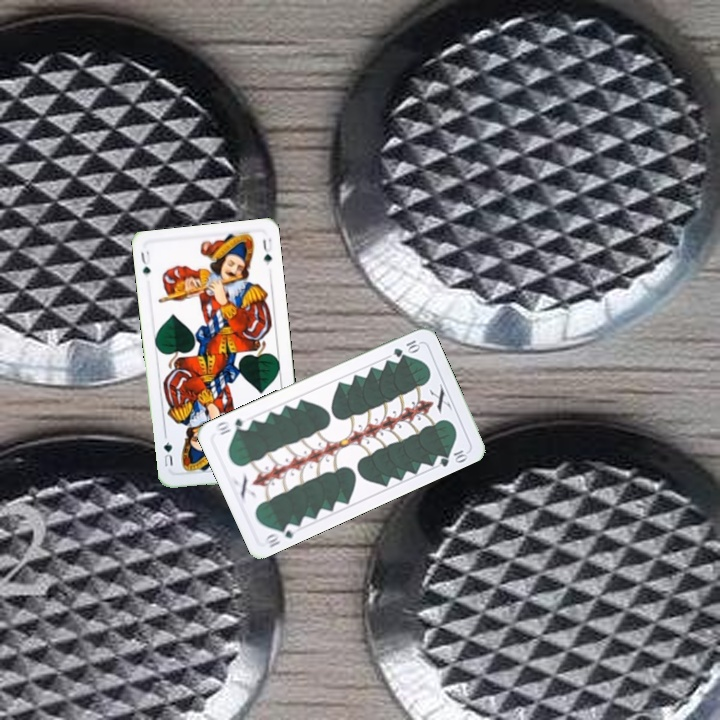G10: (262, 519, 299, 550), (389, 336, 423, 360)
GU: (137, 247, 153, 277)
